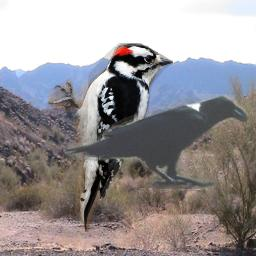Crow: (62, 94, 248, 189)
Woodpecker: (48, 43, 173, 232)
